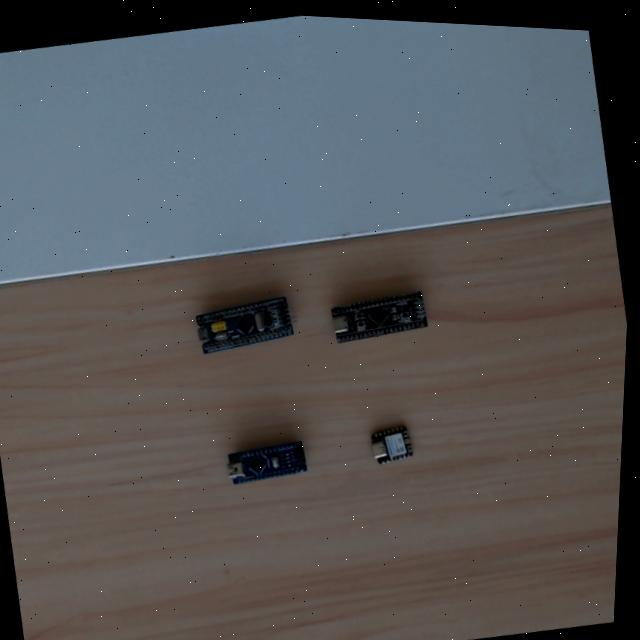Arduino-Nano: (223, 437, 310, 489)
ESP32C3-Xiao: (363, 420, 414, 469)
STM32-Blackpill: (327, 290, 428, 346)
STM32-Bluepill: (191, 293, 296, 357)
